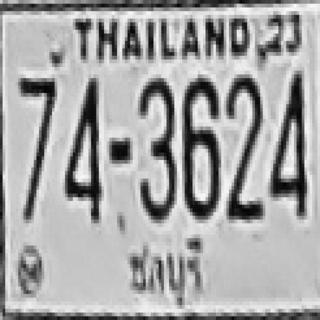N02: (224, 72, 260, 218)
N03: (138, 74, 174, 220)
N04: (62, 74, 99, 220), (268, 69, 304, 214)
N06: (181, 74, 217, 216)
N07: (17, 74, 56, 220)
P13: (118, 231, 213, 312)
